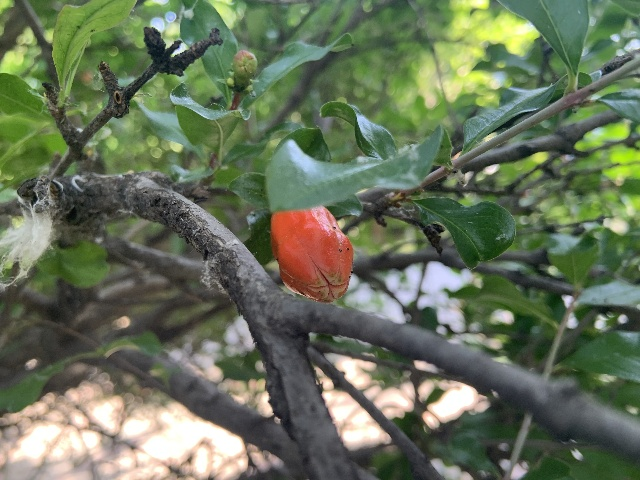bud: (270, 205, 353, 303), (233, 49, 257, 87)
